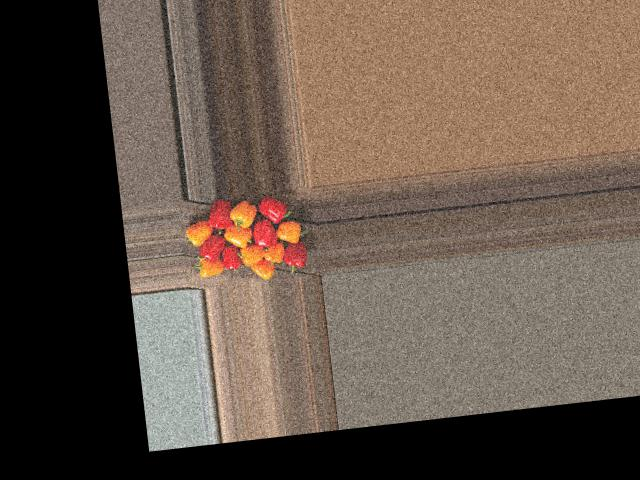bell_pepper: (183, 213, 221, 247)
